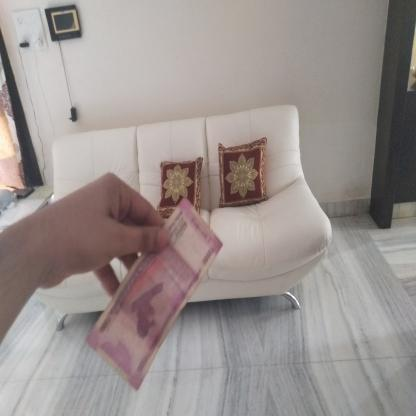New2000Back: (102, 203, 204, 374)
